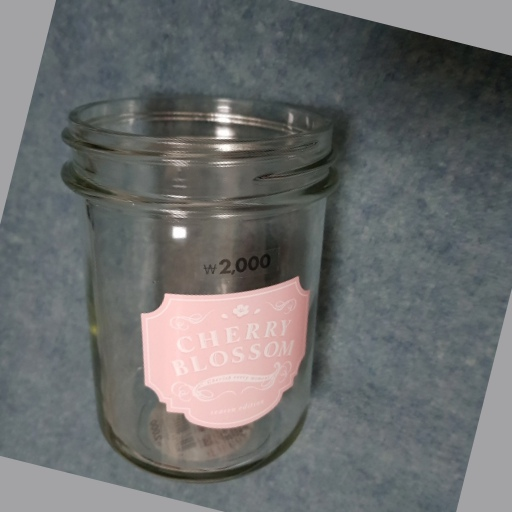Glass_5: (59, 89, 337, 483)
